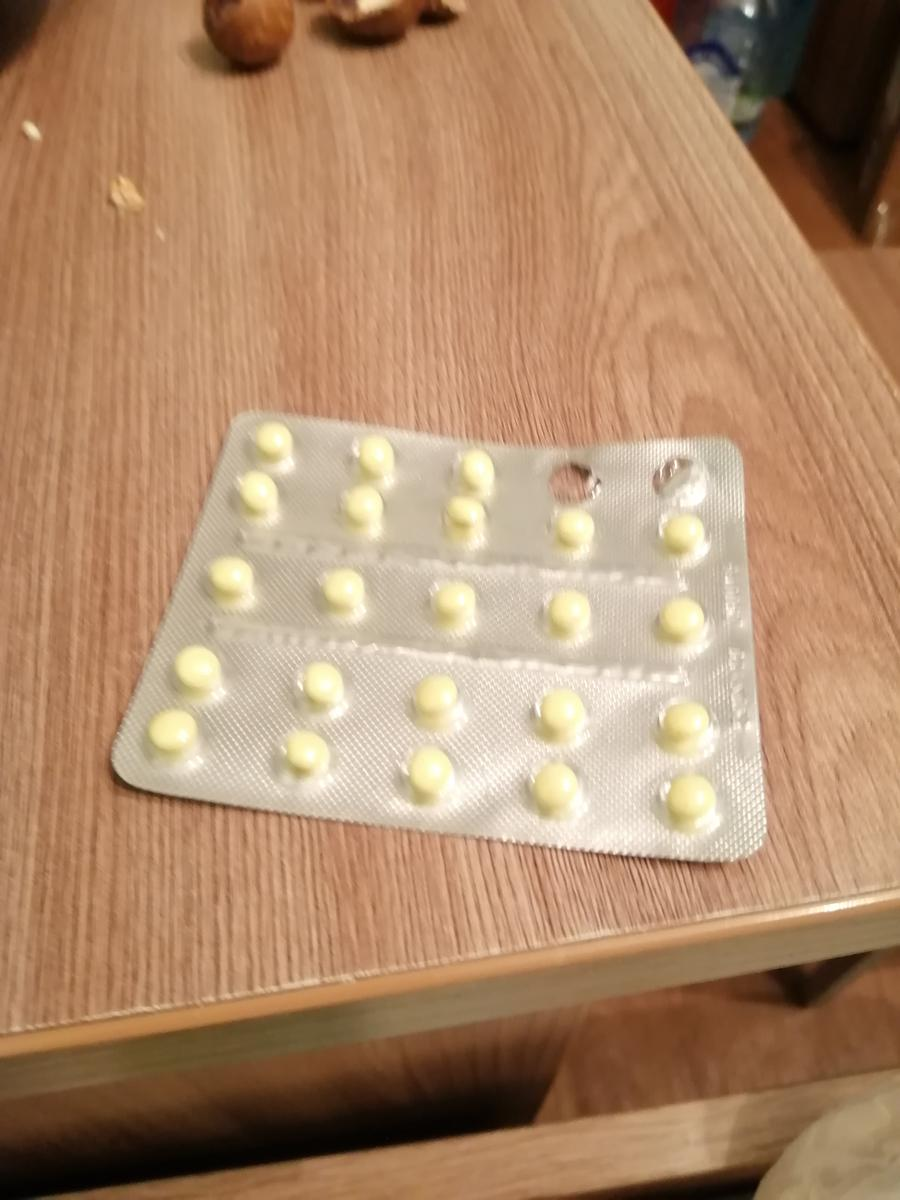tablet: (278, 723, 333, 782), (406, 741, 458, 801), (662, 692, 712, 750), (527, 757, 579, 812), (656, 506, 706, 562), (533, 683, 584, 737), (653, 590, 708, 640), (664, 771, 716, 821), (413, 668, 461, 720), (315, 563, 363, 613), (302, 659, 348, 711), (334, 480, 383, 528), (546, 585, 592, 636), (443, 487, 492, 534), (428, 574, 478, 620), (172, 641, 219, 688), (232, 464, 276, 511), (351, 433, 395, 479), (149, 708, 195, 752), (551, 505, 595, 549), (252, 418, 295, 462), (208, 552, 252, 590), (459, 447, 496, 490)
